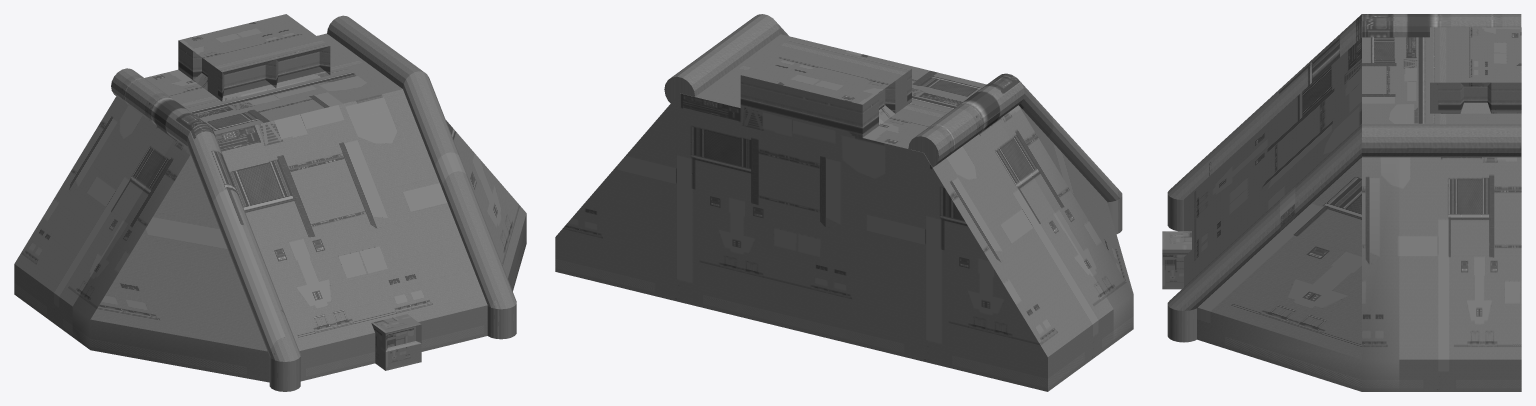
File: Environment thing.fbx
3 renders of one model, left to right at view 1: azimuth 30°, elevation 25°; view 2: azimuth 150°, elevation 25°; view 3: azimuth 270°, elevation 25°, orthographic. The views are drawn at different scales.
Parts seen in each view (by area): view 1: MaterialFBXASC032FBXASC0352142150746; view 2: MaterialFBXASC032FBXASC0352142150746; view 3: MaterialFBXASC032FBXASC0352142150746.
Boxes of the visible parts, x1,y1,x2,y2 form: MaterialFBXASC032FBXASC0352142150746: (14,14,526,391); MaterialFBXASC032FBXASC0352142150746: (555,14,1133,391); MaterialFBXASC032FBXASC0352142150746: (1162,14,1521,391).
Size of the model in its own units: 576 by 270 by 392.
